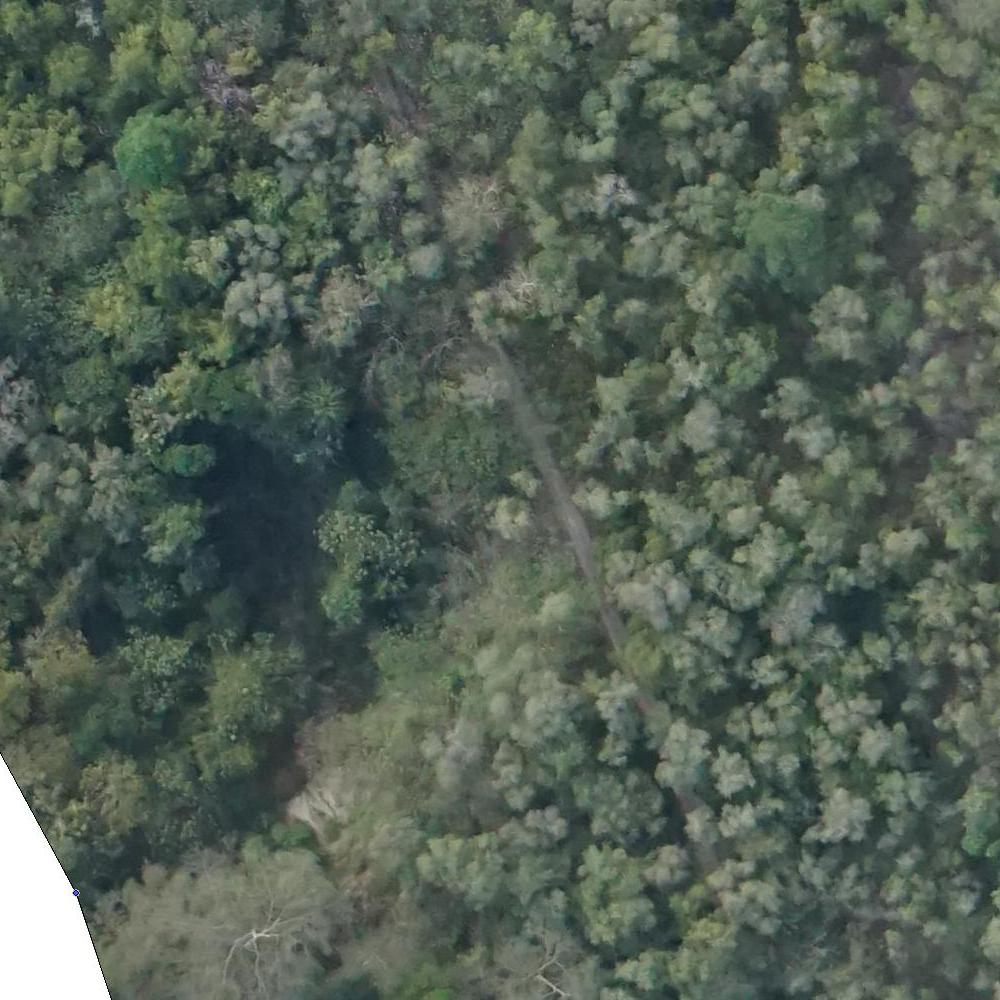tree: (732, 188, 816, 271), (119, 637, 196, 713), (75, 754, 144, 830), (114, 105, 182, 178), (445, 178, 509, 254), (434, 836, 498, 907), (625, 563, 689, 623), (813, 787, 870, 854), (120, 231, 185, 287), (228, 273, 289, 332), (814, 287, 869, 352), (680, 392, 729, 455), (673, 179, 728, 232), (655, 76, 710, 128), (45, 44, 102, 90), (115, 307, 164, 360), (819, 686, 868, 737), (319, 577, 365, 629), (932, 33, 980, 81), (661, 724, 711, 770), (367, 241, 412, 292), (540, 594, 585, 644), (643, 840, 692, 885), (301, 384, 347, 429), (700, 601, 739, 654), (614, 298, 661, 341), (526, 808, 574, 850), (770, 470, 806, 525), (490, 491, 535, 534), (578, 476, 620, 520), (766, 378, 811, 419), (755, 54, 797, 96), (165, 440, 208, 481), (463, 371, 508, 405), (790, 420, 831, 457), (923, 350, 959, 392), (881, 528, 923, 560), (597, 685, 634, 720), (857, 205, 893, 239), (722, 801, 757, 831), (301, 96, 336, 126), (718, 757, 751, 788), (595, 103, 624, 136)
